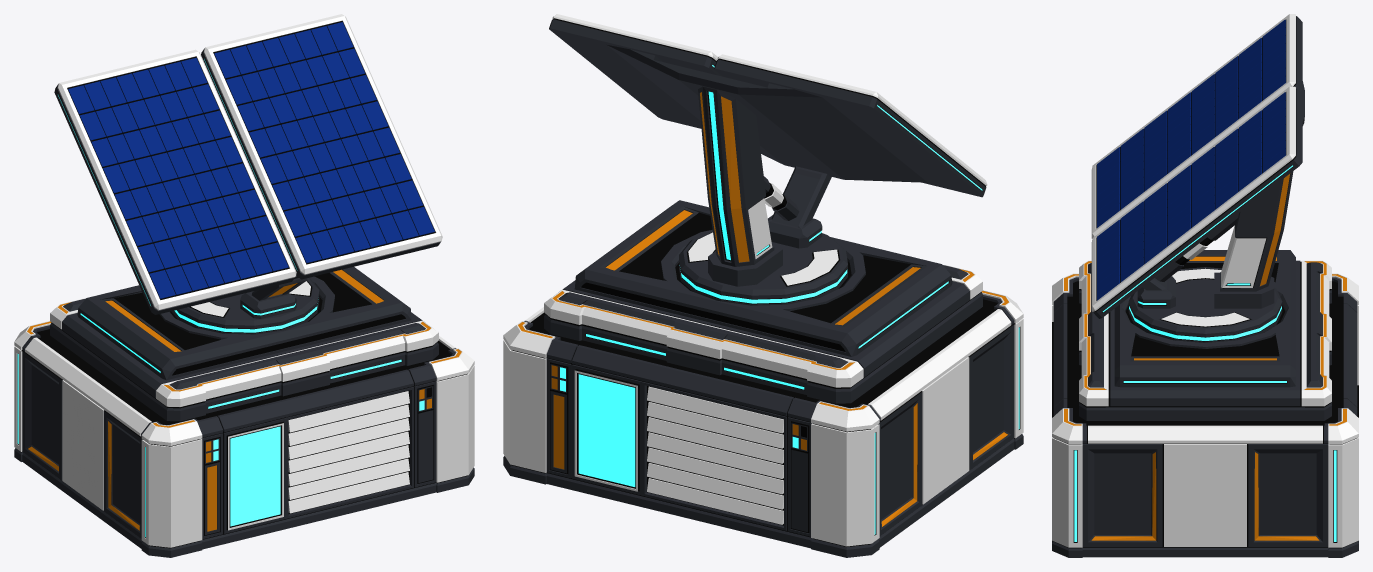
The model's file is SM_SolarPanel_T2.fbx.
The picture shows the model from 3 angles, left to right: view 1: azimuth 30°, elevation 25°; view 2: azimuth 150°, elevation 25°; view 3: azimuth 270°, elevation 25°; orthographic projection. The views are drawn at different scales.
Parts seen in each view (by area): view 1: SM_SolarPanel_T2_Base, SM_SolarPanel_T2_Panel; view 2: SM_SolarPanel_T2_Base, SM_SolarPanel_T2_Panel; view 3: SM_SolarPanel_T2_Base, SM_SolarPanel_T2_Panel.
Part boxes in pixels (x1,y1,x2,y2): SM_SolarPanel_T2_Base: [14, 267, 474, 557]; SM_SolarPanel_T2_Panel: [54, 14, 442, 334]; SM_SolarPanel_T2_Base: [503, 200, 1023, 557]; SM_SolarPanel_T2_Panel: [549, 14, 987, 305]; SM_SolarPanel_T2_Base: [1052, 250, 1358, 557]; SM_SolarPanel_T2_Panel: [1091, 14, 1304, 342].
Size of the model in its own units: 250 by 283 by 200.
